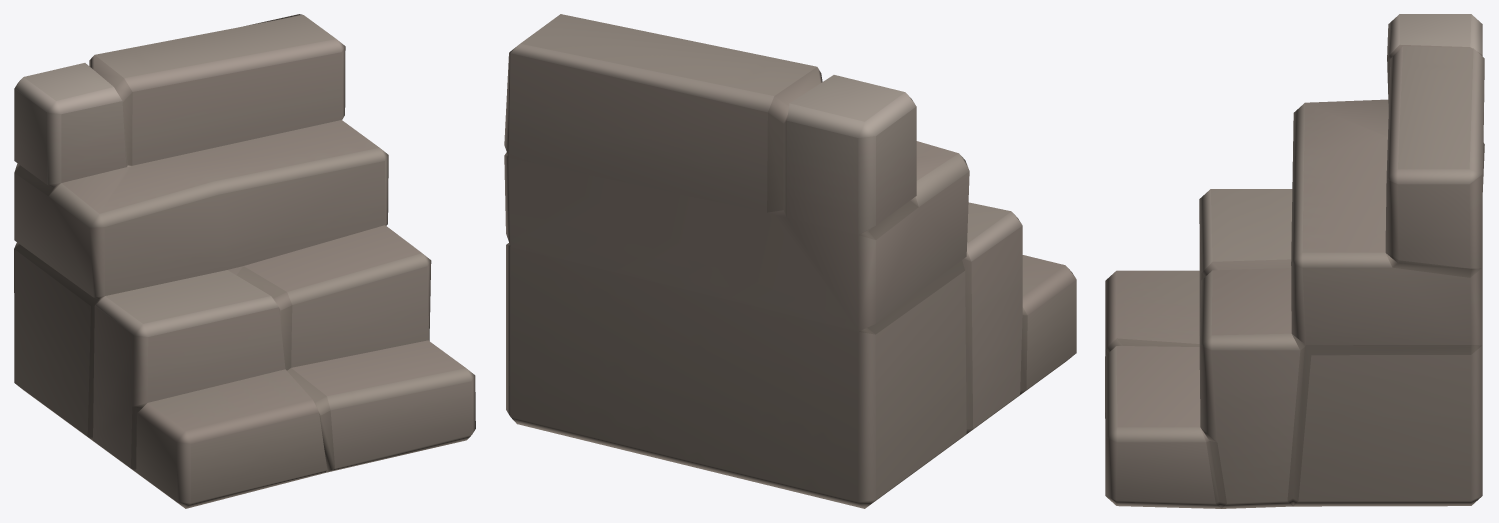
The model's file is elf_stairs_shade_3.fbx.
3 views of the same model, side by side, from view 1: azimuth 30°, elevation 25°; view 2: azimuth 150°, elevation 25°; view 3: azimuth 270°, elevation 25° (orthographic). The views are drawn at different scales.
Parts seen in each view (by area): view 1: elf_stairs_shade_3; view 2: elf_stairs_shade_3; view 3: elf_stairs_shade_3.
Boxes of the visible parts, left/top/right/bottom form: elf_stairs_shade_3: left=14, top=14, right=475, bottom=508; elf_stairs_shade_3: left=504, top=14, right=1076, bottom=508; elf_stairs_shade_3: left=1105, top=14, right=1484, bottom=508.
Bounding box in the file's own units: 101 × 102 × 101.
